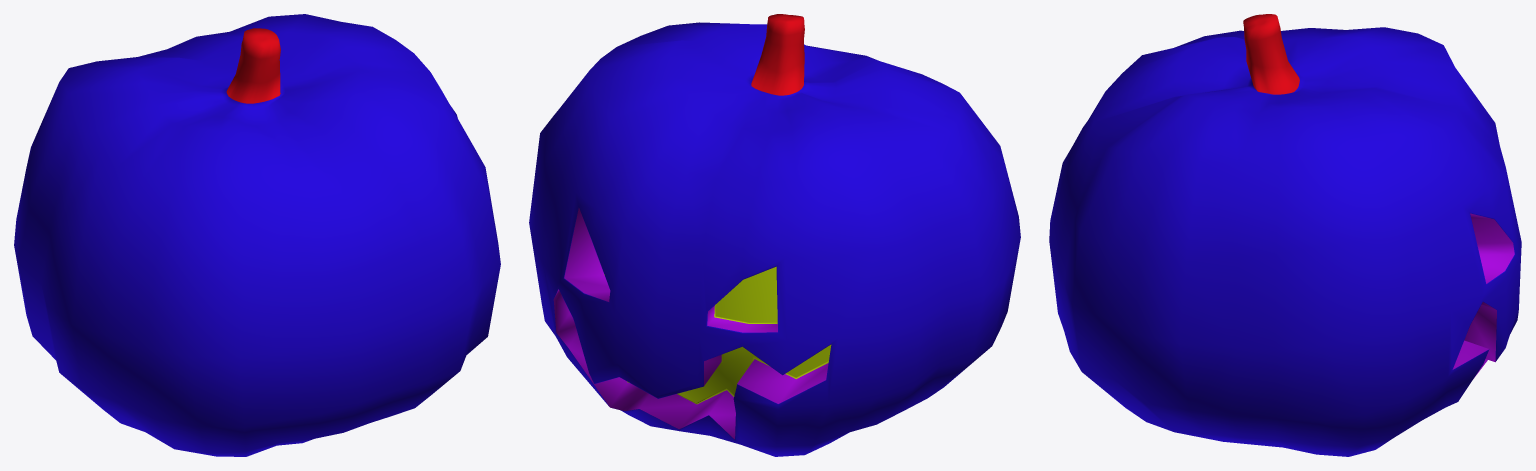
Rendered from Jack.fbx.
The picture shows the model from 3 angles, left to right: view 1: azimuth 30°, elevation 25°; view 2: azimuth 150°, elevation 25°; view 3: azimuth 270°, elevation 25°; orthographic projection.
Visible parts, largest first — view 1: Jack; view 2: Jack; view 3: Jack.
Boxes of the visible parts, x1,y1,x2,y2 form: Jack: (14, 14, 500, 456); Jack: (529, 14, 1020, 456); Jack: (1049, 14, 1521, 456).
Size of the model in its own units: 201 by 172 by 194.
